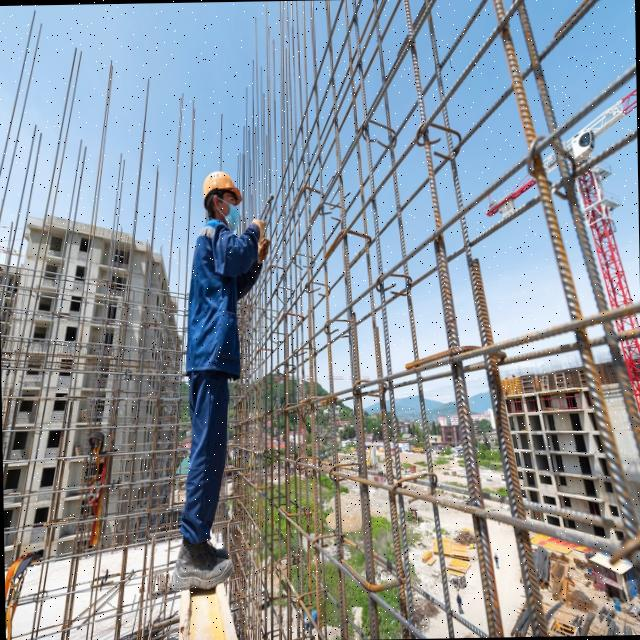Helmet: (203, 171, 243, 206)
NoJacket: (192, 217, 242, 372)
